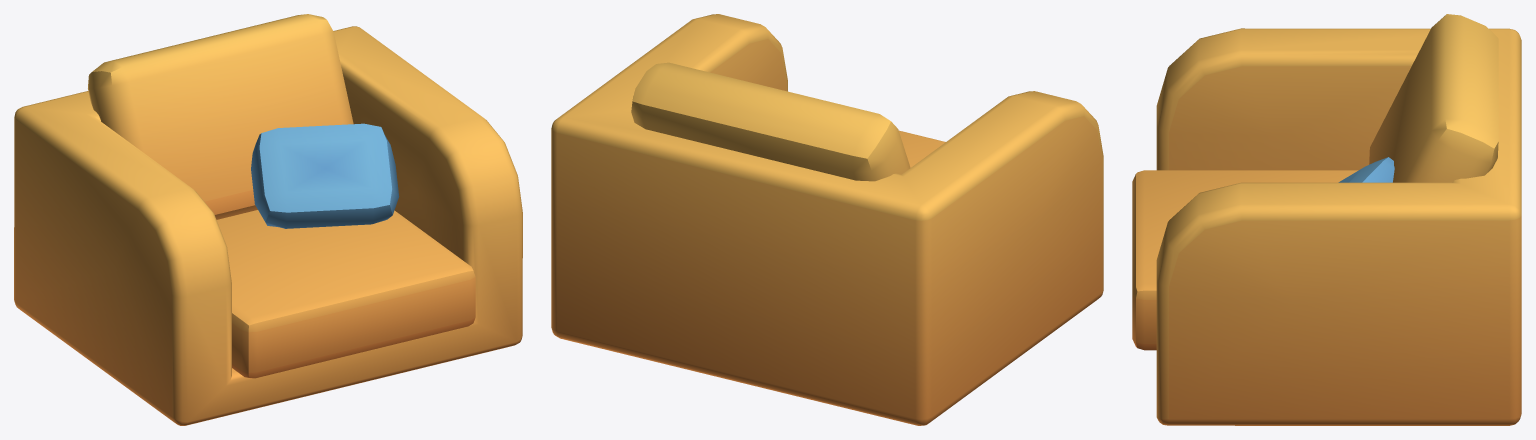
The model's file is armchair_pillows.glb.
The picture shows the model from 3 angles, left to right: view 1: azimuth 30°, elevation 25°; view 2: azimuth 150°, elevation 25°; view 3: azimuth 270°, elevation 25°; orthographic projection. The views are drawn at different scales.
Parts seen in each view (by area): view 1: armchair_pillows; view 2: armchair_pillows; view 3: armchair_pillows.
Part boxes in pixels (box(x1,y1,x2,y2)): armchair_pillows: box(14, 14, 522, 425); armchair_pillows: box(551, 14, 1103, 425); armchair_pillows: box(1132, 14, 1521, 425).
Bounding box in the file's own units: 1.8 × 1.22 × 1.6.
1 material, 1 textured.
